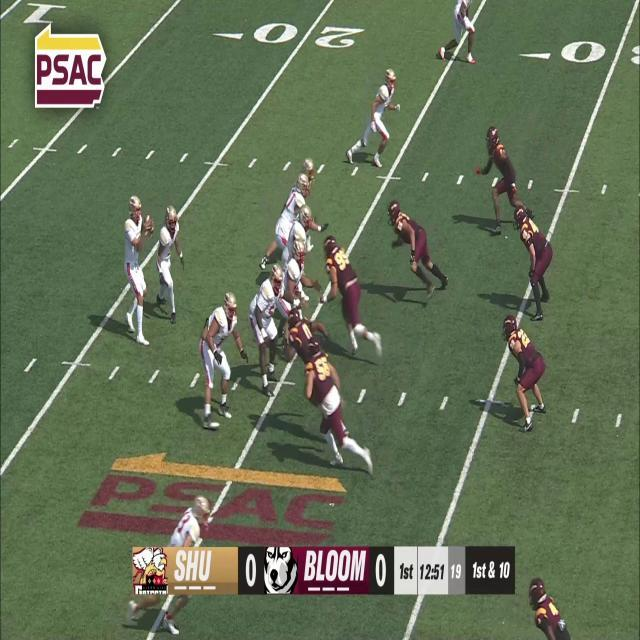football: (142, 215, 153, 232)
